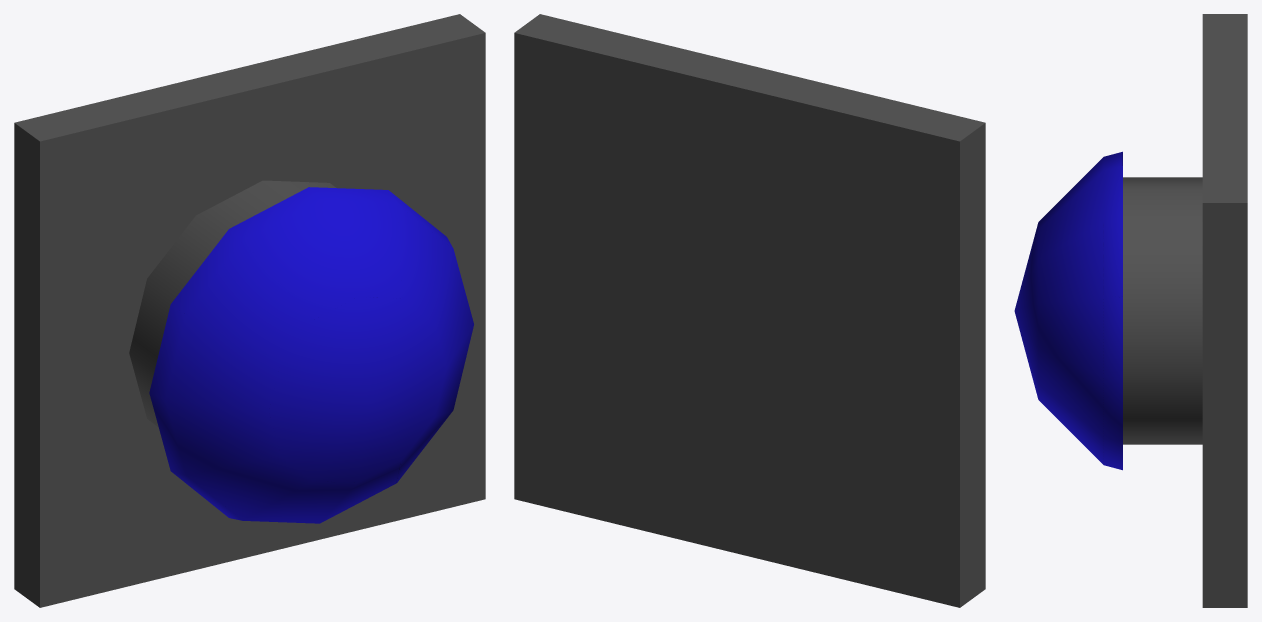
The model's file is Buzzer_UVLicht.fbx.
3 renders of one model, left to right at view 1: azimuth 30°, elevation 25°; view 2: azimuth 150°, elevation 25°; view 3: azimuth 270°, elevation 25°, orthographic. The views are drawn at different scales.
Visible parts, largest first — view 1: Buzzerkasten, Buzzerknopf; view 2: Buzzerkasten; view 3: Buzzerkasten, Buzzerknopf.
Part boxes in pixels (box(x1,y1,x2,y2)): Buzzerkasten: box(14, 14, 485, 607); Buzzerknopf: box(149, 187, 473, 523); Buzzerkasten: box(514, 14, 985, 607); Buzzerkasten: box(1123, 14, 1247, 607); Buzzerknopf: box(1014, 151, 1122, 470).
Size of the model in its own units: 40 by 40 by 20.86.
Materials: 2 (2 with a texture image).
